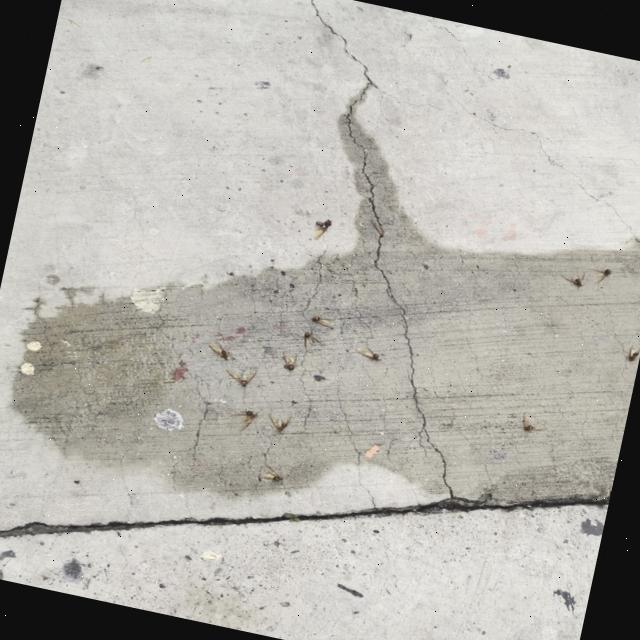Dead-Female-Alate: (312, 217, 332, 242)
Dead-Male-Alate: (227, 406, 260, 434), (222, 364, 256, 388), (256, 462, 284, 487), (300, 331, 328, 355), (264, 410, 292, 434), (558, 267, 586, 291), (519, 412, 548, 434), (584, 264, 612, 286), (206, 340, 233, 360), (354, 343, 382, 362), (278, 349, 300, 372), (309, 314, 335, 329), (626, 344, 640, 362)
